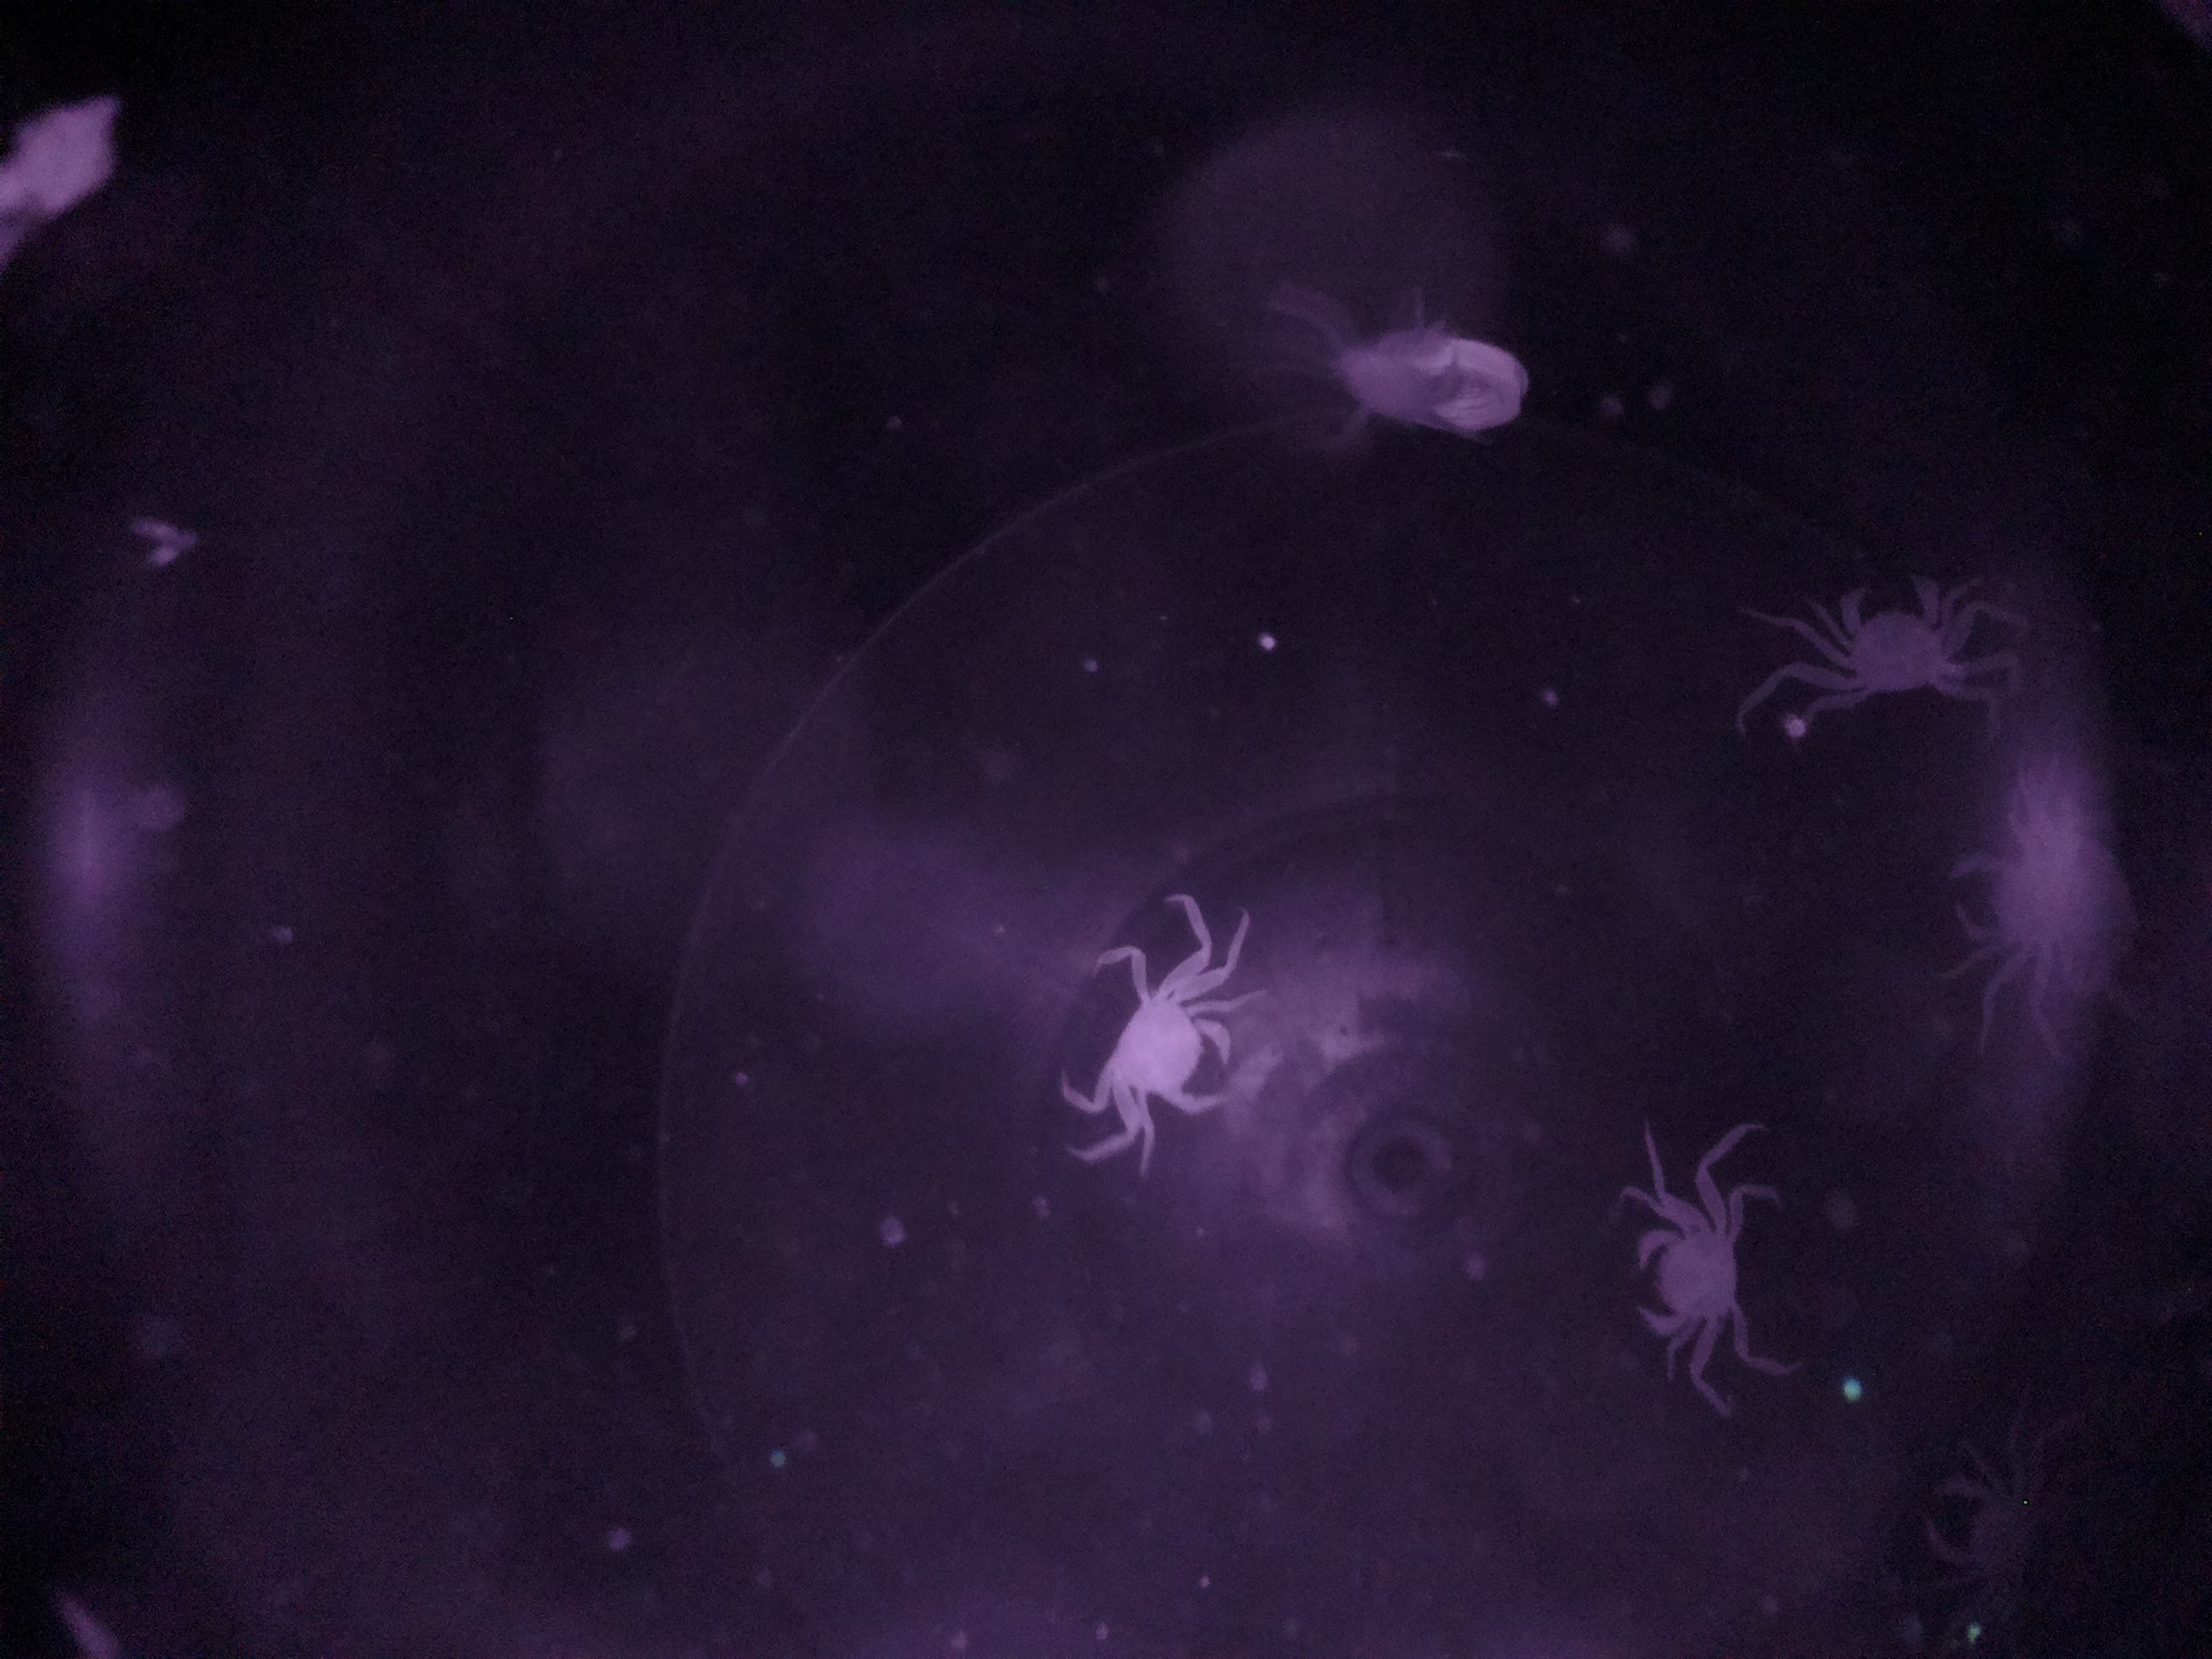Crab: (1615, 1161, 1796, 1385), (1062, 939, 1252, 1148), (1801, 549, 1987, 735)
